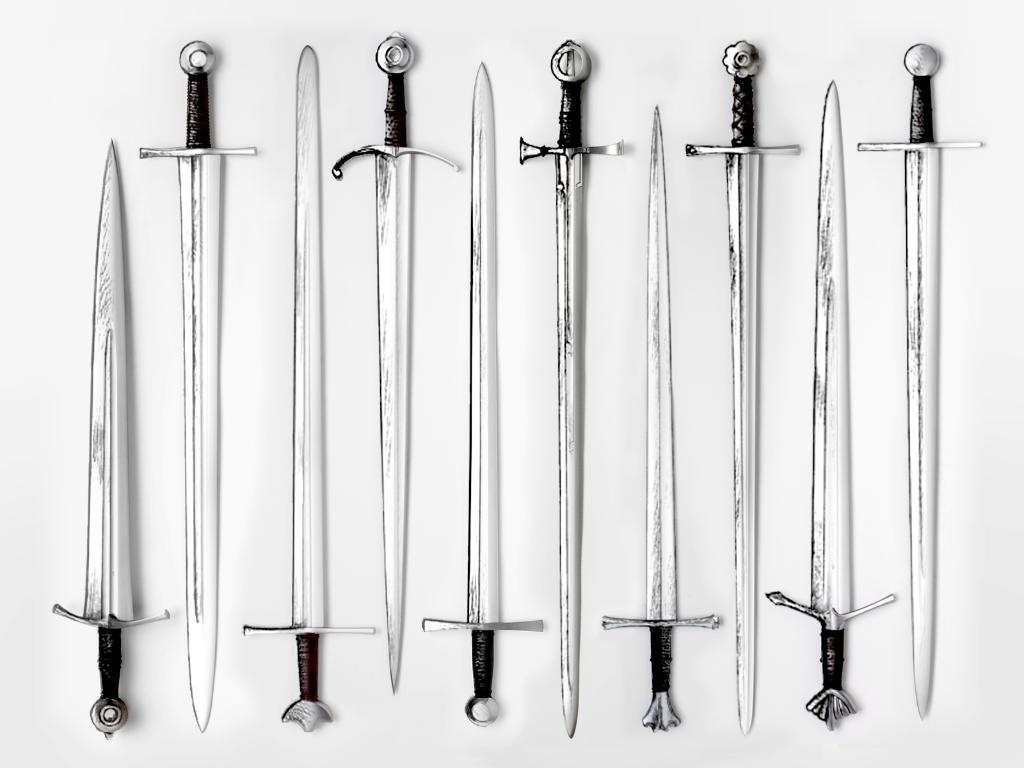Sword: (239, 41, 370, 729), (332, 33, 464, 700), (134, 42, 257, 732), (768, 78, 895, 733), (857, 40, 979, 719), (684, 44, 801, 737), (419, 61, 541, 722), (514, 36, 620, 733), (50, 140, 166, 743), (608, 108, 718, 724)
